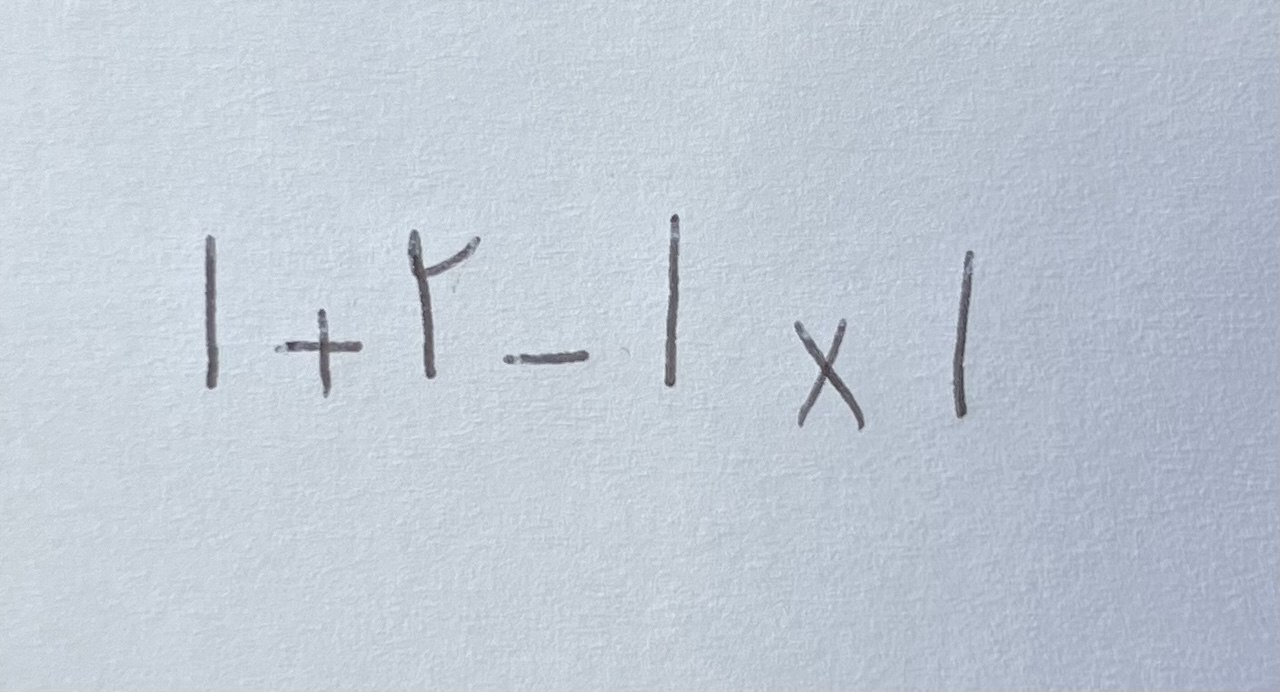character: (406, 228, 483, 381), (793, 317, 866, 433), (273, 308, 366, 399), (950, 248, 977, 419), (662, 212, 681, 389), (203, 233, 221, 392), (502, 349, 590, 367)
